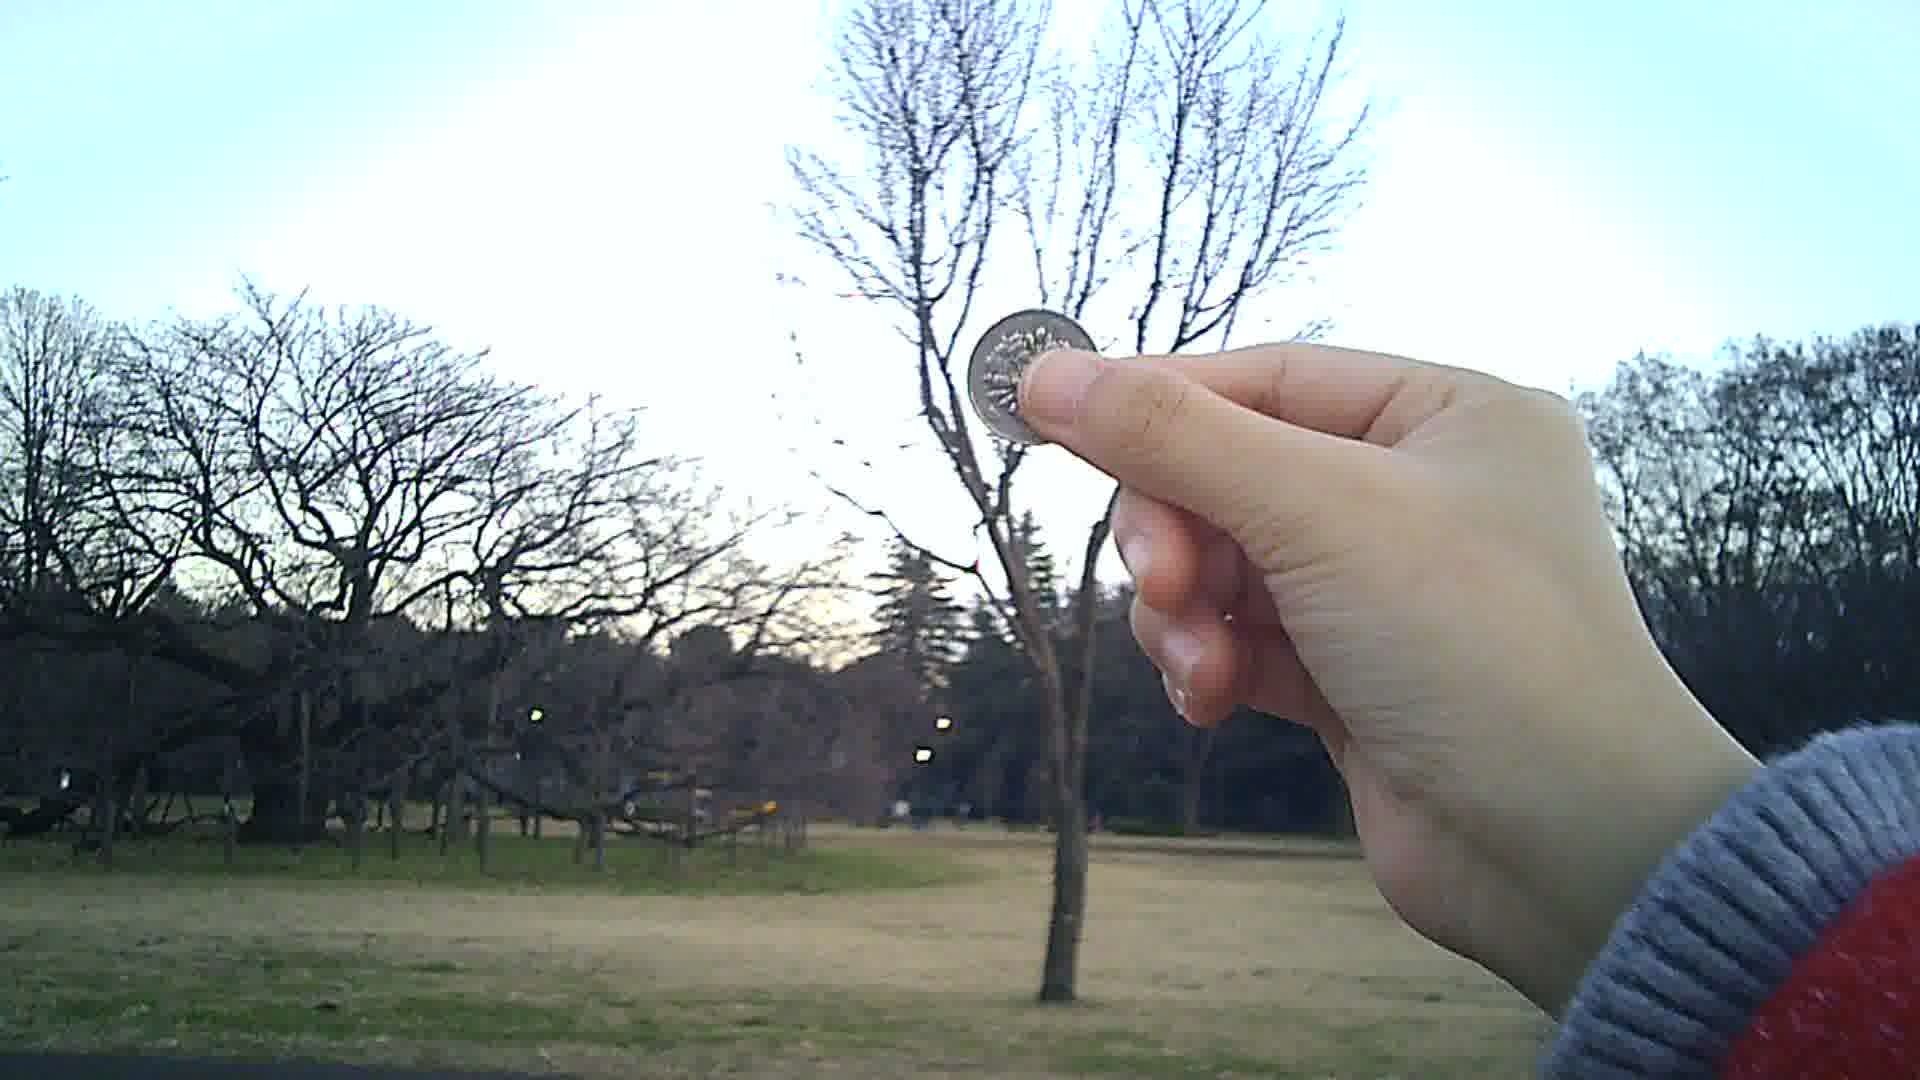100 Yen: (963, 309, 1101, 451)
